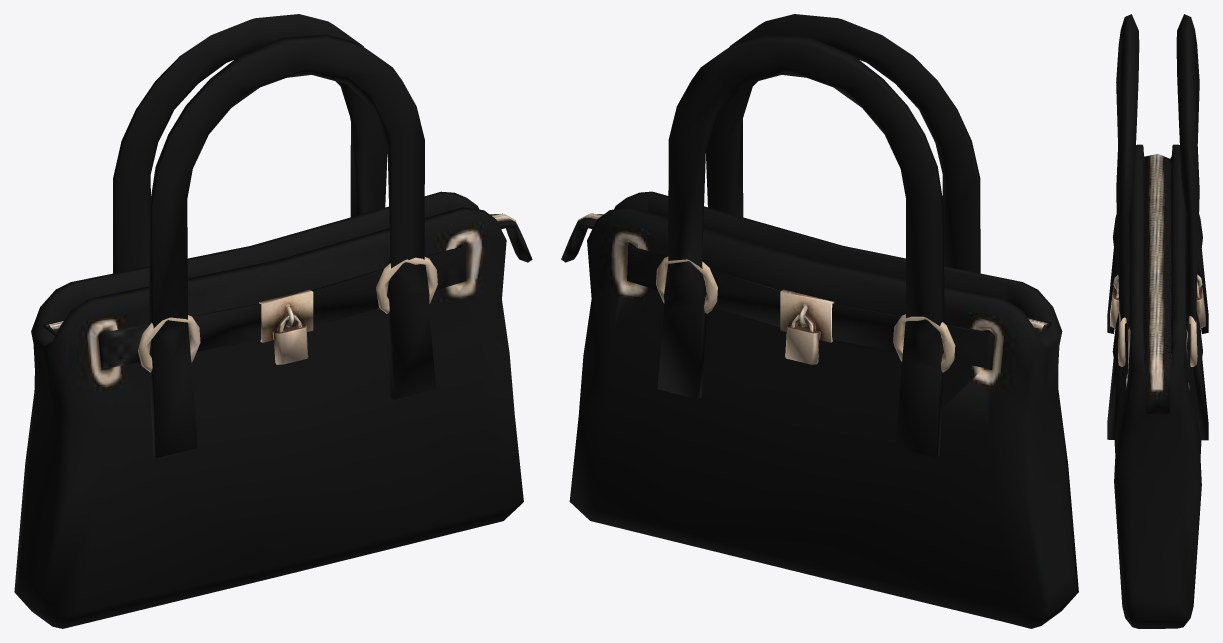
The model's file is handbag_black.glb.
3 renders of one model, left to right at view 1: azimuth 30°, elevation 25°; view 2: azimuth 150°, elevation 25°; view 3: azimuth 270°, elevation 25°, orthographic. The views are drawn at different scales.
Parts seen in each view (by area): view 1: handbag_black; view 2: handbag_black; view 3: handbag_black.
Boxes of the visible parts, x1,y1,x2,y2 form: handbag_black: (14,14,532,628); handbag_black: (561,14,1078,628); handbag_black: (1107,14,1208,628).
Bounding box in the file's own units: 0.2909 × 0.3 × 0.0551.
2 materials, 2 textured.
